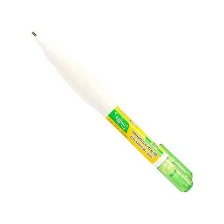correction_fluid: (29, 28, 195, 194)
